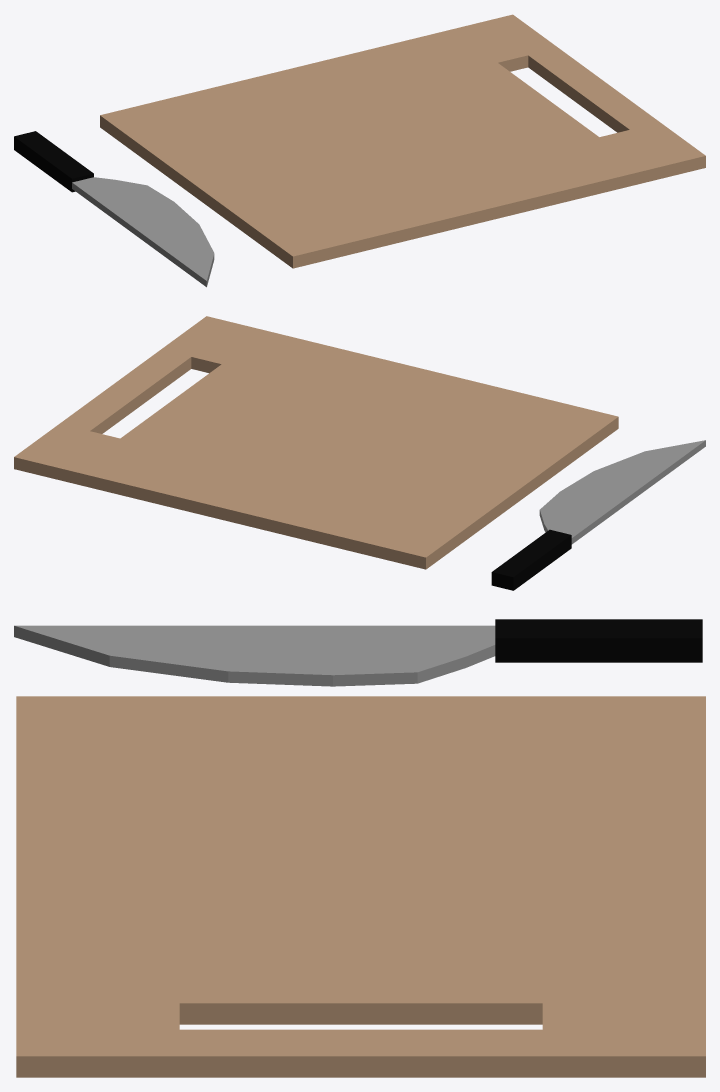
Rendered from CuttingPlace.fbx.
The picture shows the model from 3 angles, top to bottom: view 1: azimuth 30°, elevation 25°; view 2: azimuth 150°, elevation 25°; view 3: azimuth 270°, elevation 25°; orthographic projection. The views are drawn at different scales.
Visible parts, largest first — view 1: CuttingBoard, Knife; view 2: CuttingBoard, Knife; view 3: CuttingBoard, Knife.
Part boxes in pixels (x1,y1,x2,y2): CuttingBoard: (100, 14, 705, 268); Knife: (14, 131, 214, 287); CuttingBoard: (14, 316, 618, 569); Knife: (491, 440, 705, 590); CuttingBoard: (16, 696, 705, 1077); Knife: (14, 619, 702, 686).
Bounding box in the file's own units: 79.11 × 53.11 × 2.05.
